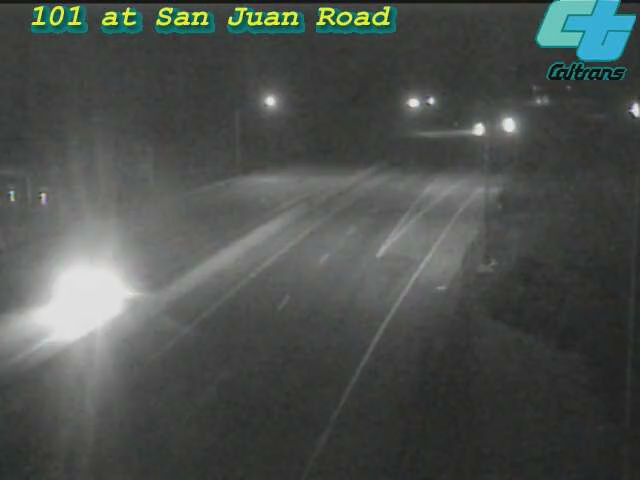vehicle: (25, 261, 105, 341), (449, 105, 499, 155), (482, 100, 532, 150), (610, 86, 640, 136)
